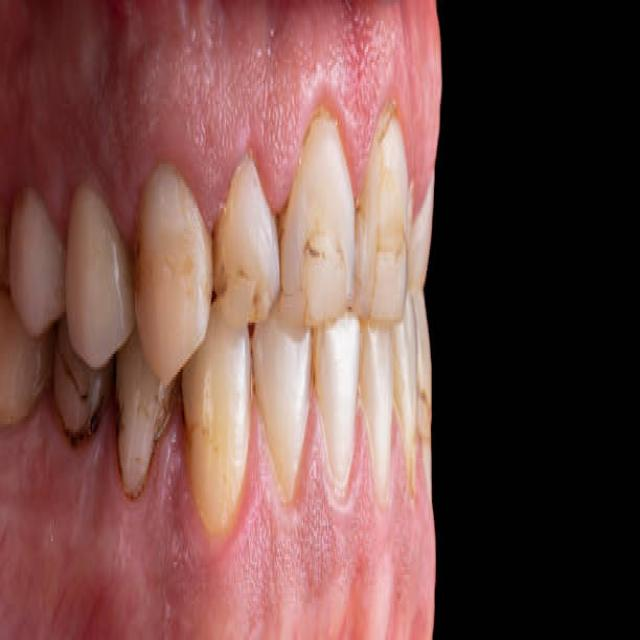caries: (296, 220, 350, 338), (363, 211, 410, 331), (214, 246, 265, 327)
